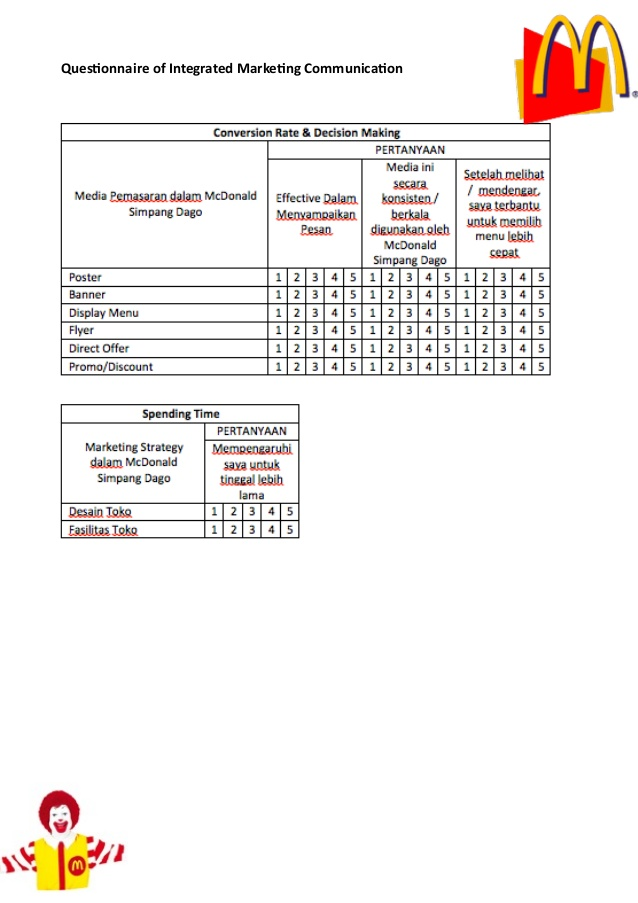mcdonalds: (533, 12, 631, 100)
